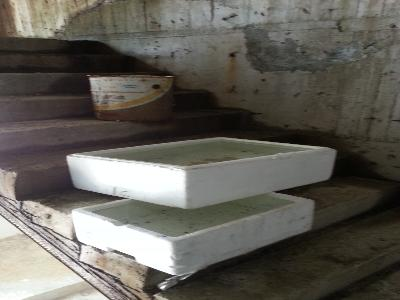bucket: (83, 70, 176, 125)
styrofoam: (71, 190, 317, 277), (64, 136, 343, 211)
